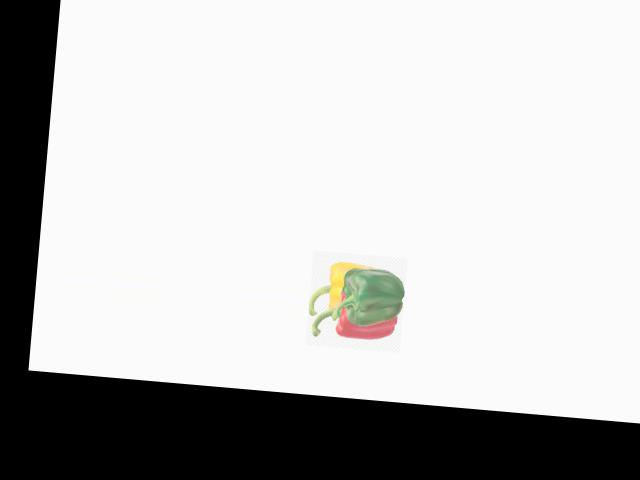bell_pepper: (308, 291, 401, 353)
